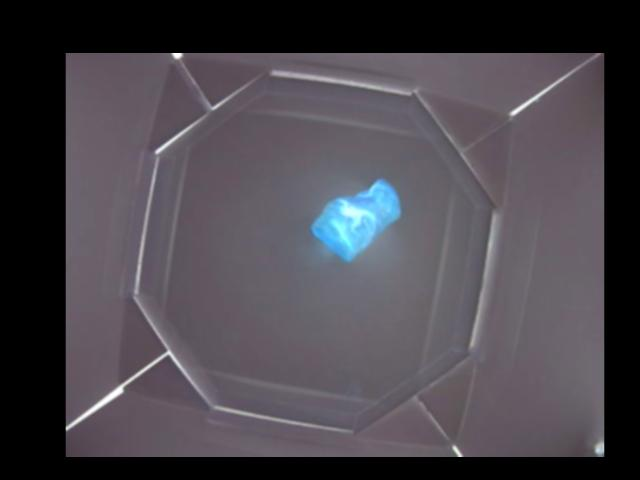Carrot: (313, 179, 401, 262)
